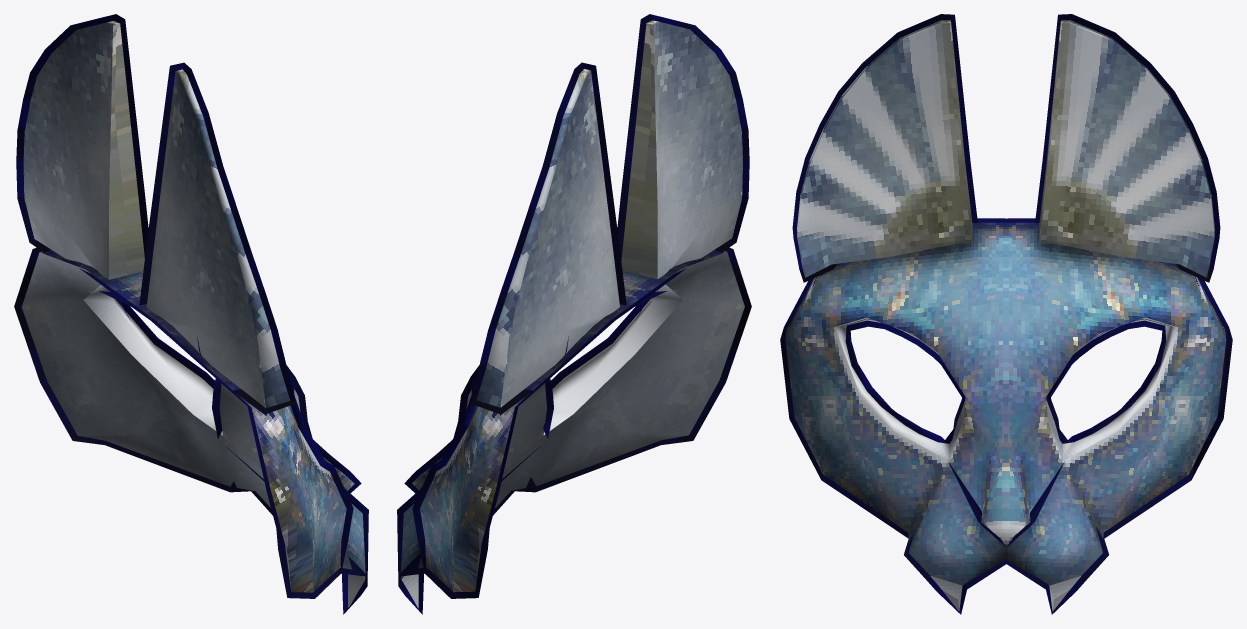
Rendered from bastet_mask.glb.
The picture shows the model from 3 angles, left to right: view 1: azimuth 30°, elevation 25°; view 2: azimuth 150°, elevation 25°; view 3: azimuth 270°, elevation 25°; orthographic projection. The views are drawn at different scales.
Visible parts, largest first — view 1: Mask1, Mask2; view 2: Mask1, Mask2; view 3: Mask1, Mask2.
Boxes of the visible parts, x1,y1,x2,y2 form: Mask1: [21, 21, 365, 607]; Mask2: [14, 14, 368, 614]; Mask1: [401, 20, 744, 608]; Mask2: [397, 14, 751, 614]; Mask1: [785, 20, 1226, 611]; Mask2: [780, 14, 1232, 614].
Bounding box in the file's own units: 0.0202 × 0.0487 × 0.0381.
Materials: 1 (1 with a texture image).
